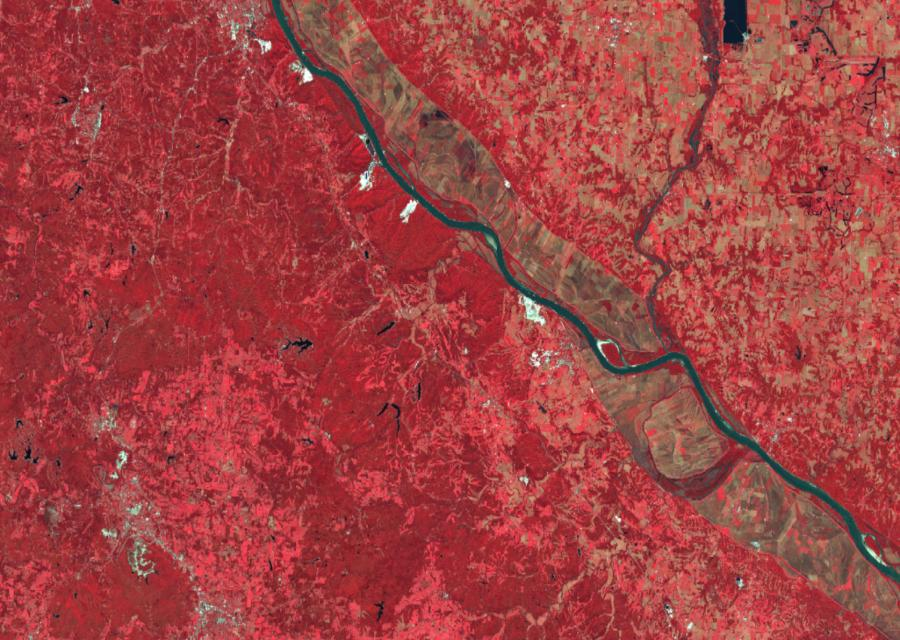Potential Lime Manufacturing Facility: (522, 298, 546, 325)
